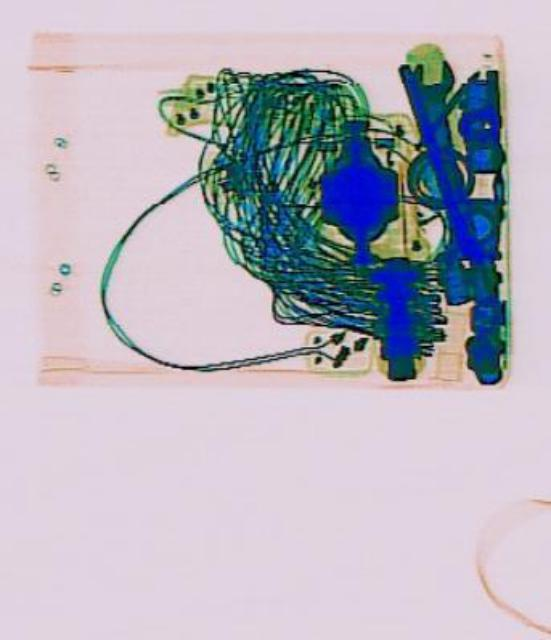Wrench: (404, 54, 488, 276)
